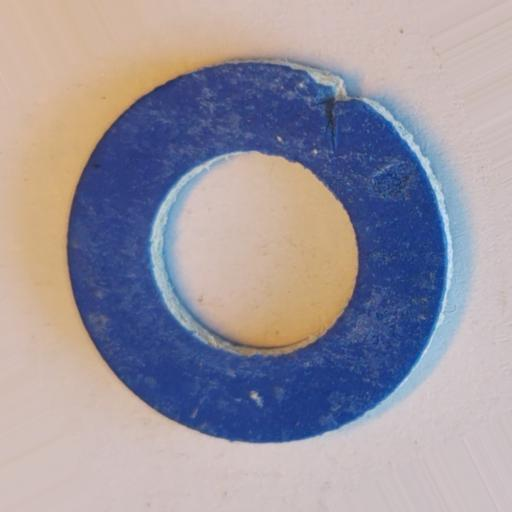defect: (319, 79, 359, 150)
